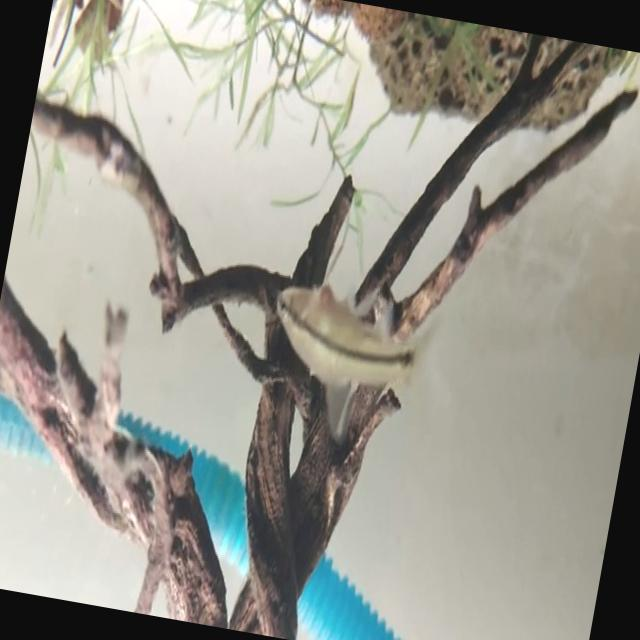Cakil Baligi: (250, 279, 457, 455)
